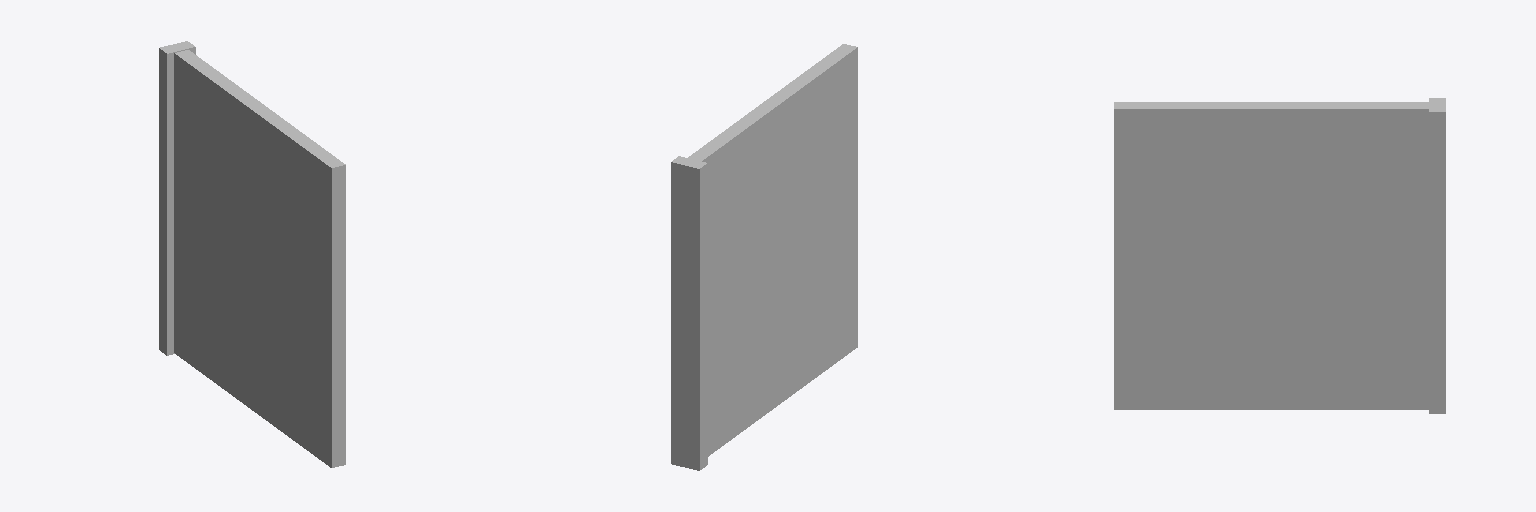
The model's file is wall2x2.obj.
3 views of the same model, side by side, from view 1: azimuth 30°, elevation 25°; view 2: azimuth 150°, elevation 25°; view 3: azimuth 270°, elevation 25° (orthographic).
Visible parts, largest first — view 1: Cube.001, Cube; view 2: Cube.001, Cube; view 3: Cube.001, Cube.
Part boxes in pixels (x1,y1,x2,y2): Cube.001: (174,50,345,467); Cube: (159,41,195,355); Cube.001: (678,44,857,467); Cube: (671,156,707,470); Cube.001: (1114,102,1428,409); Cube: (1429,98,1445,413).
Bounding box in the file's own units: 20 × 201 × 200.